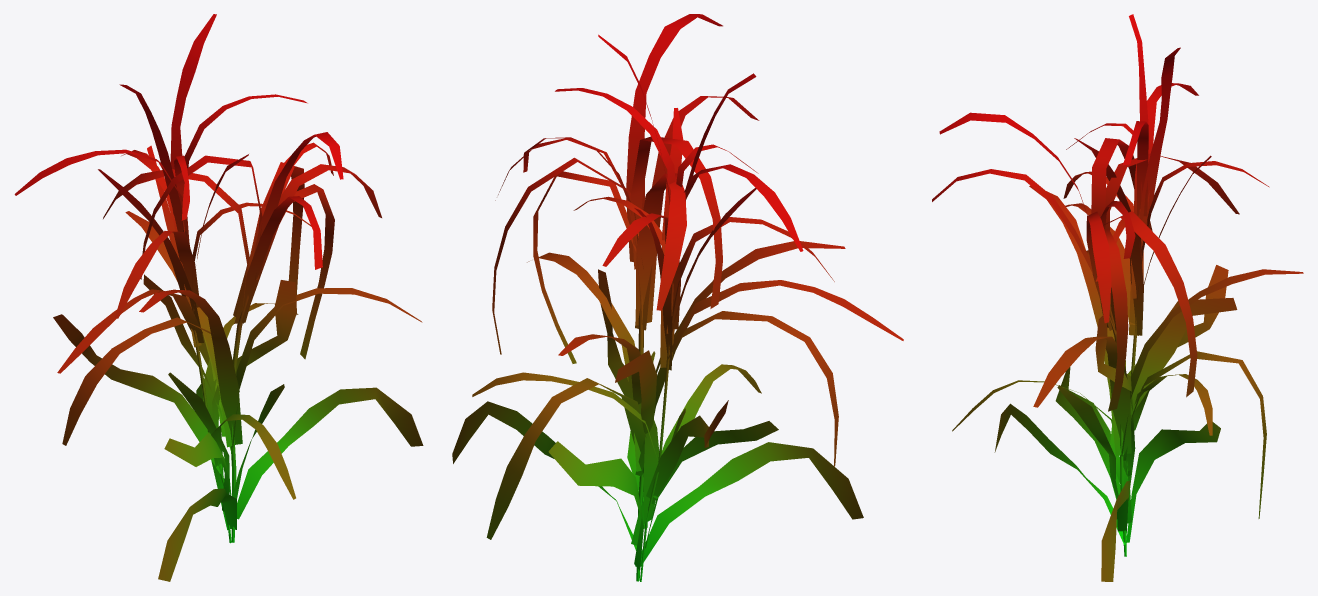
File: Var3_LOD1.fbx
3 renders of one model, left to right at view 1: azimuth 30°, elevation 25°; view 2: azimuth 150°, elevation 25°; view 3: azimuth 270°, elevation 25°, orthographic. The views are drawn at different scales.
Parts seen in each view (by area): view 1: _534b_Var3_LOD1; view 2: _534b_Var3_LOD1; view 3: _534b_Var3_LOD1.
Boxes of the visible parts, left/top/right/bottom form: _534b_Var3_LOD1: left=14, top=14, right=423, bottom=581; _534b_Var3_LOD1: left=452, top=14, right=903, bottom=581; _534b_Var3_LOD1: left=932, top=14, right=1303, bottom=581.
Size of the model in its own units: 35.07 by 44.06 by 28.95.
